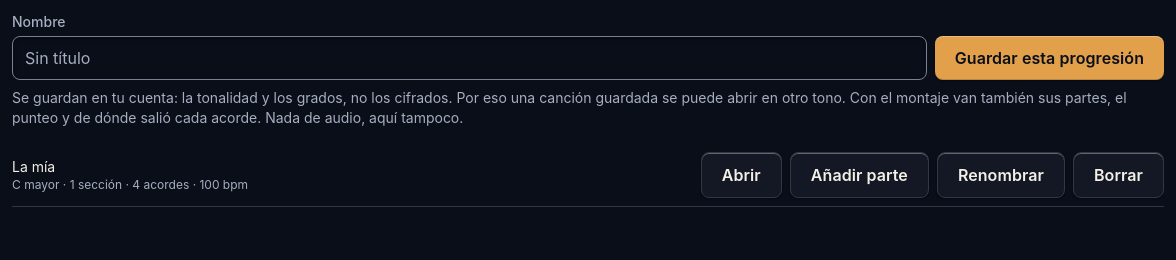
Test case: añadir una parte › no deja mezclar tonalidades, y dice por qué
The image size is (1176, 260).
Expected: the text "La mía" is shown, [12,158,55,175]
Click the button "Añadir parte" at (859, 175), box [790,152,929,198]
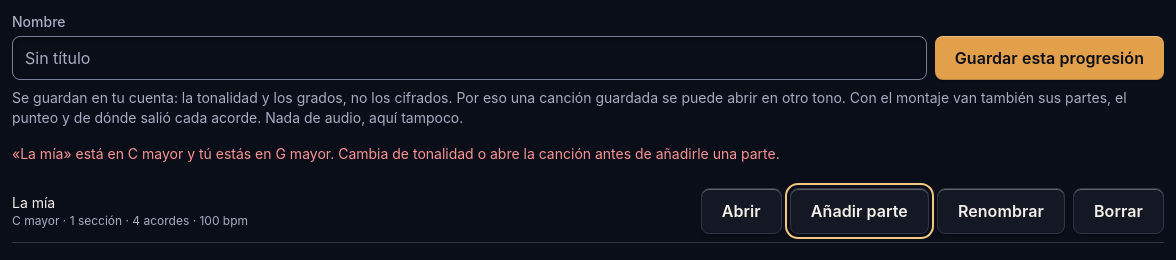
Expected: the message shows "está en C mayor y tú estás en G mayor", [12,145,780,162]
